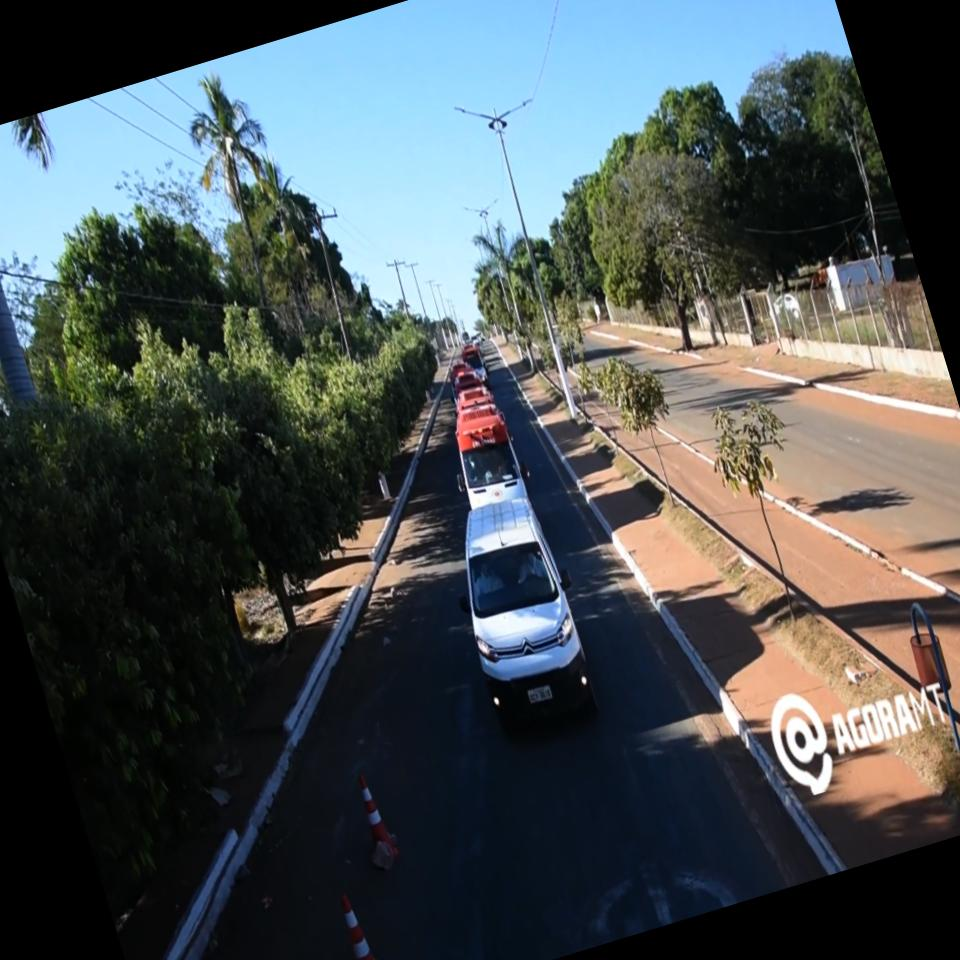bombeiro: (438, 395, 538, 515)
